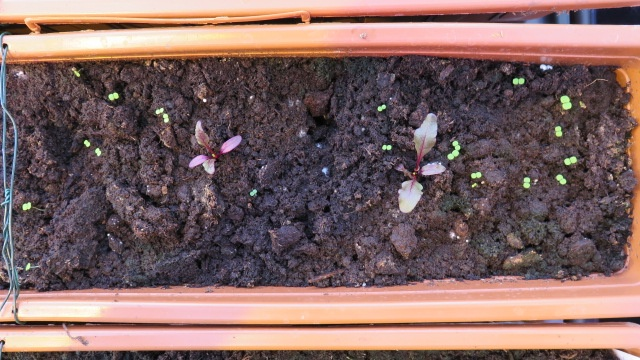crop: (396, 112, 448, 216), (183, 115, 245, 176)
weed: (558, 94, 574, 111), (551, 124, 565, 138), (560, 155, 579, 165), (158, 111, 171, 124), (447, 149, 460, 162), (554, 173, 567, 185), (19, 200, 33, 211), (520, 176, 531, 190), (510, 76, 527, 85), (106, 91, 120, 101), (152, 105, 167, 114), (378, 144, 394, 151), (467, 171, 483, 178), (92, 147, 103, 157), (72, 67, 83, 77), (375, 103, 387, 112), (81, 138, 92, 147), (451, 140, 462, 149)
